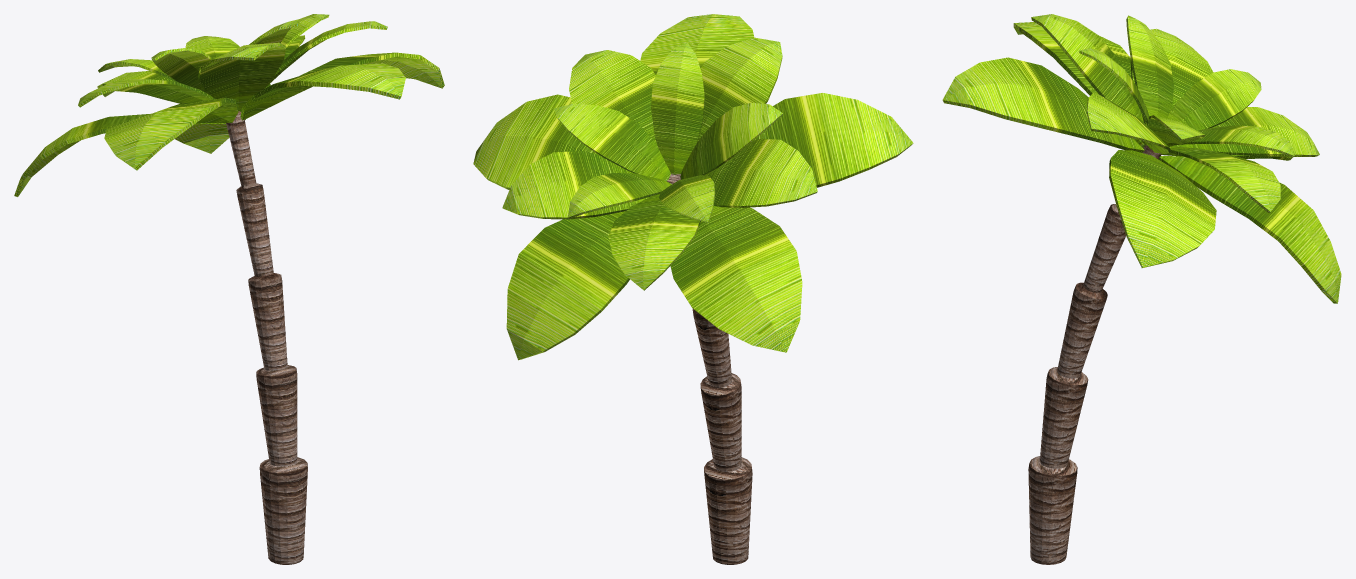
Rendered from Palmeira.2_Textured.Anim.fbx.
The picture shows the model from 3 angles, left to right: view 1: azimuth 30°, elevation 25°; view 2: azimuth 150°, elevation 25°; view 3: azimuth 270°, elevation 25°; orthographic projection.
Parts seen in each view (by area): view 1: Folha, Tronco; view 2: Folha, Tronco; view 3: Folha, Tronco.
Part boxes in pixels (x1,y1,x2,y2): Folha: (14,14,444,196); Tronco: (226,111,307,564); Folha: (473,14,913,360); Tronco: (667,174,752,564); Folha: (942,14,1341,303); Tronco: (1028,145,1161,564).
Bounding box in the file's own units: 222 × 294 × 203.
2 materials, 2 textured.
